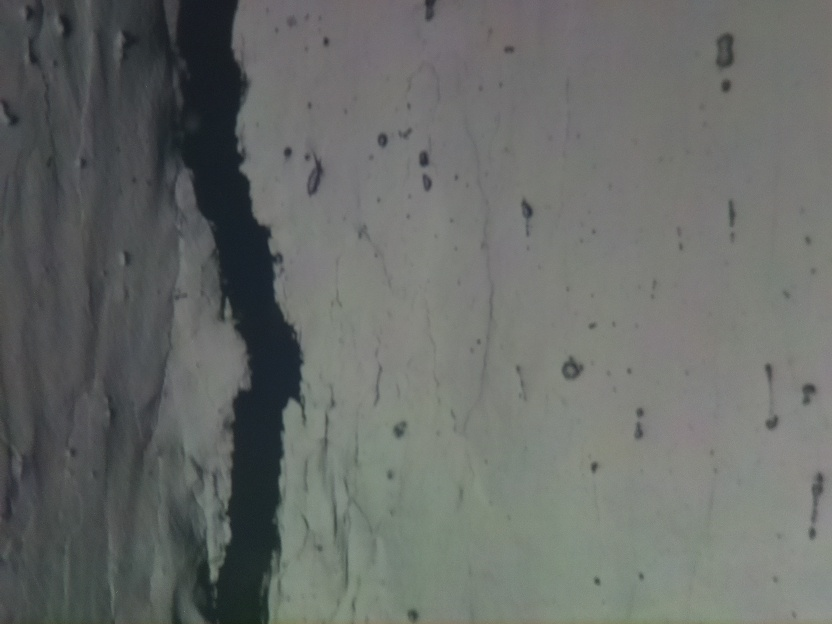crack: (180, 0, 304, 622)
